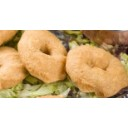vada: (66, 47, 128, 93), (19, 28, 67, 80), (1, 45, 30, 85)
